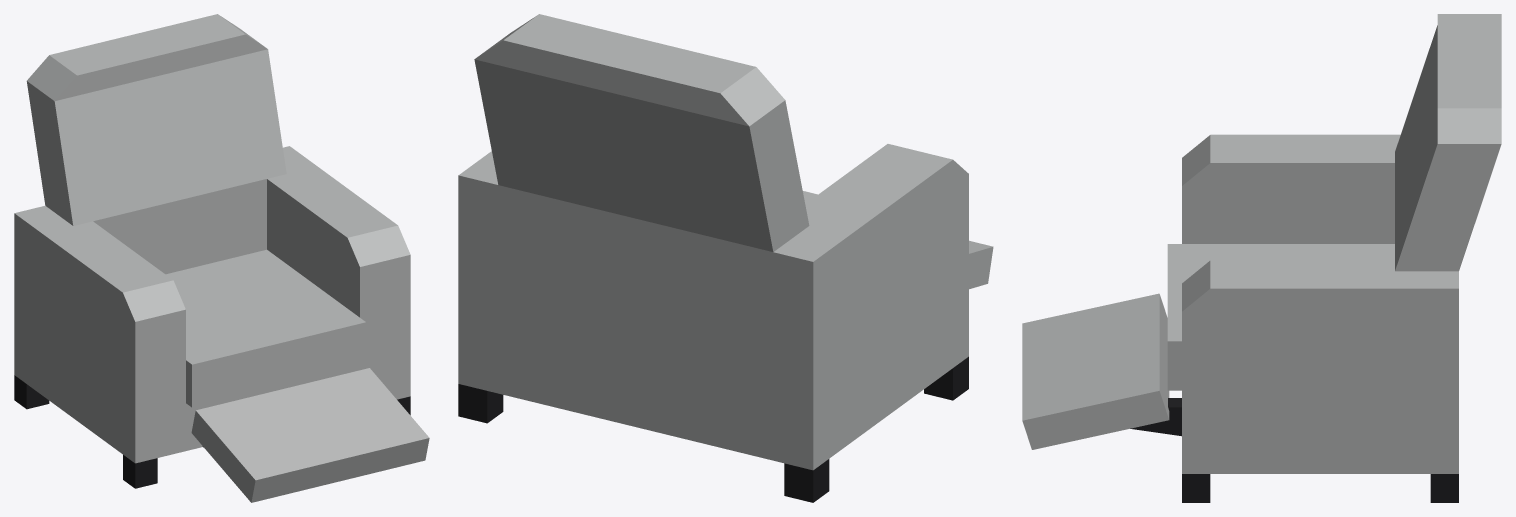
The model's file is pk_recl_quilt.glb.
3 renders of one model, left to right at view 1: azimuth 30°, elevation 25°; view 2: azimuth 150°, elevation 25°; view 3: azimuth 270°, elevation 25°, orthographic. The views are drawn at different scales.
Visible parts, largest first — view 1: pk_recl_quilt; view 2: pk_recl_quilt; view 3: pk_recl_quilt.
Part boxes in pixels (<box>): pk_recl_quilt: <box>14,14,429,502</box>; pk_recl_quilt: <box>458,14,993,502</box>; pk_recl_quilt: <box>1022,14,1501,502</box>.
Size of the model in its own units: 0.95 by 1.05 by 1.25.
Materials: 1 (1 with a texture image).
